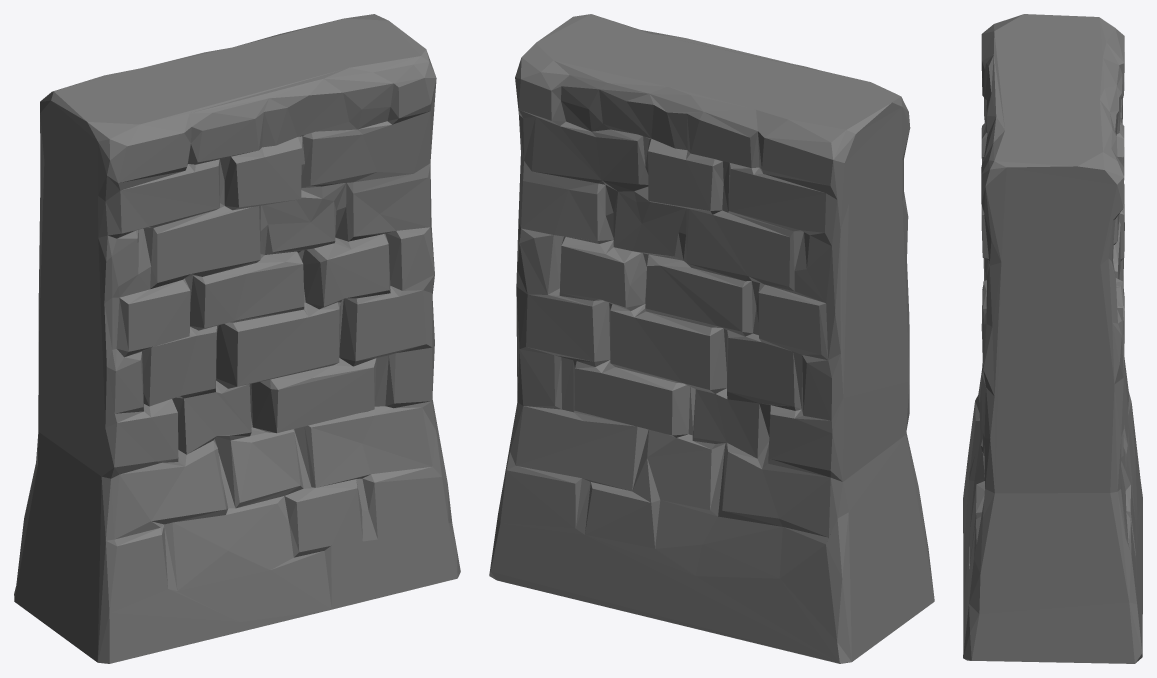
Rendered from village_wall_1x1m.FBX.
3 renders of one model, left to right at view 1: azimuth 30°, elevation 25°; view 2: azimuth 150°, elevation 25°; view 3: azimuth 270°, elevation 25°, orthographic. The views are drawn at different scales.
Visible parts, largest first — view 1: village_wall_1x1m; view 2: village_wall_1x1m; view 3: village_wall_1x1m.
Part boxes in pixels (left/top/right/bottom): village_wall_1x1m: left=14, top=14, right=460, bottom=663; village_wall_1x1m: left=489, top=14, right=934, bottom=663; village_wall_1x1m: left=963, top=14, right=1142, bottom=663.
Bounding box in the file's own units: 1.1 × 1.5 × 0.4991.
